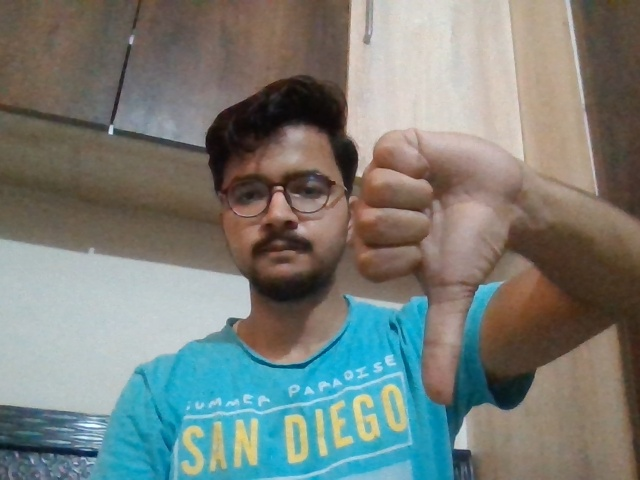no: (358, 119, 521, 403)
